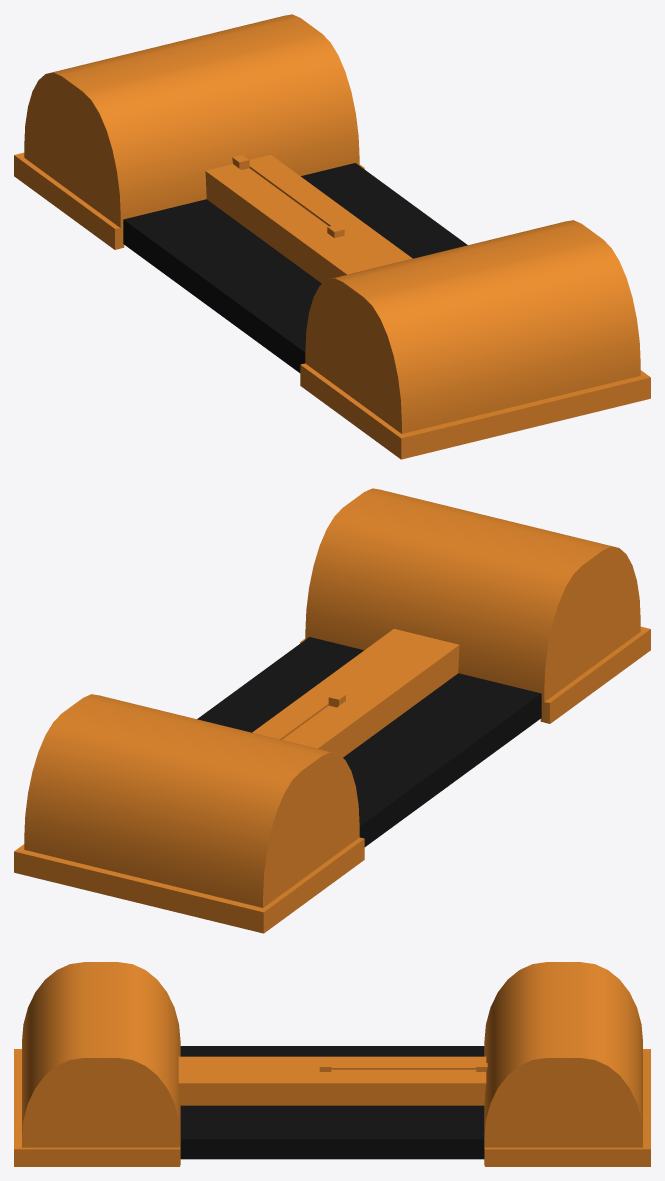
The picture shows the model from 3 angles, top to bottom: view 1: azimuth 30°, elevation 25°; view 2: azimuth 150°, elevation 25°; view 3: azimuth 270°, elevation 25°; orthographic projection. The views are drawn at different scales.
Parts seen in each view (by area): view 1: TickleTuner; view 2: TickleTuner; view 3: TickleTuner.
Boxes of the visible parts, <box> form: TickleTuner: <box>14,14,650,459</box>; TickleTuner: <box>14,488,650,933</box>; TickleTuner: <box>14,962,650,1166</box>.
Bounding box in the file's own units: 25.59 × 12.68 × 68.68.
